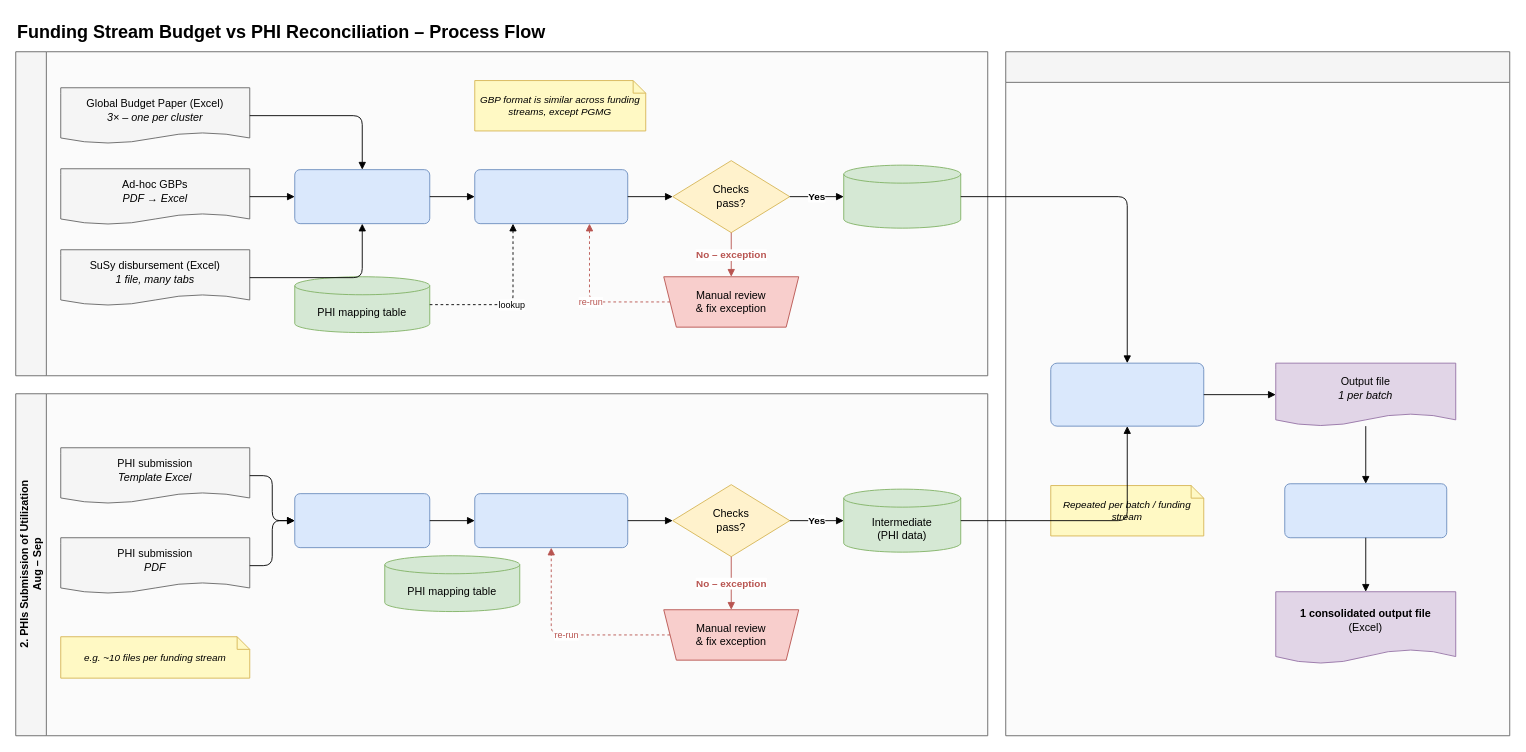
This 1526x752 diagram has some shape labels left out. The shapes that lost their labels are listed below. From the top down, each one's box as (x1, y1, x2, y2) in pixels, then its label:
(294, 169, 430, 224): Identify files by folder
(15, 51, 988, 376): 1. Approved Budget and Disbursement April
(474, 169, 628, 224): Consolidate & Check (Cols G & H)
(843, 164, 961, 228): Intermediate (budget data)
(1050, 362, 1204, 426): Calculate checks (budget vs PHI)
(1005, 51, 1510, 736): 3. Reconciliation & Adjustments
(294, 493, 430, 548): PHIs submit inputs
(474, 493, 628, 548): Consolidate & Check Cols J,K,L
(1284, 483, 1447, 538): Combine all batches
